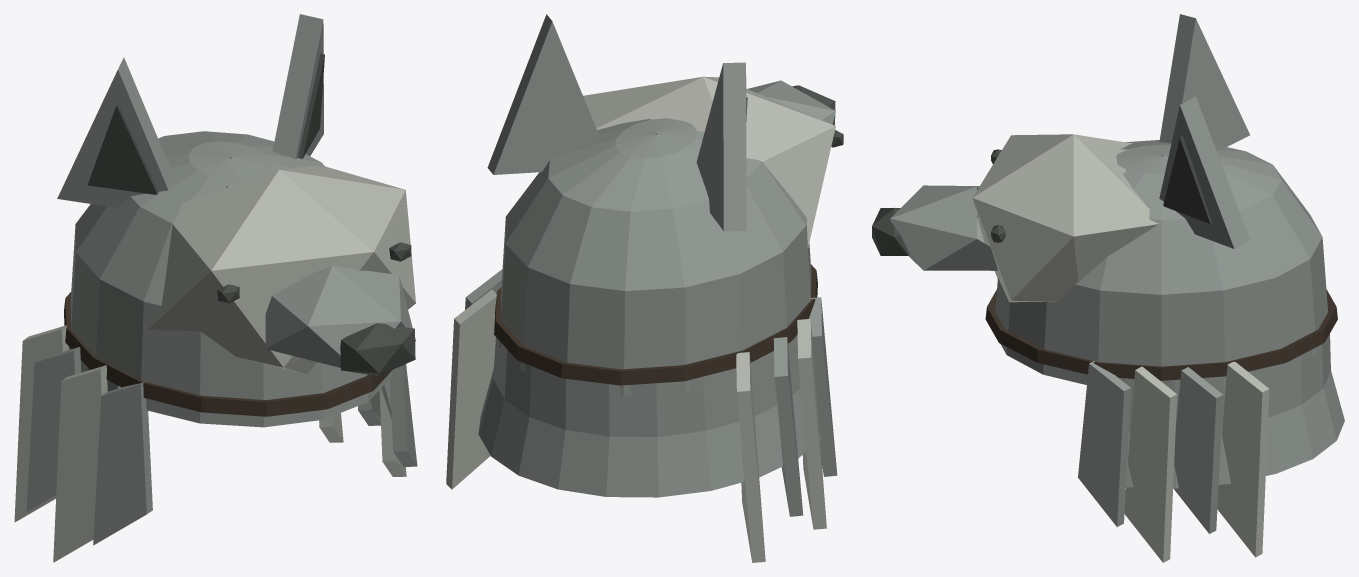
Rendered from Helmet_T1_VELES.fbx.
The picture shows the model from 3 angles, left to right: view 1: azimuth 30°, elevation 25°; view 2: azimuth 150°, elevation 25°; view 3: azimuth 270°, elevation 25°; orthographic projection. The views are drawn at different scales.
Visible parts, largest first — view 1: Helmet_T1_VELES; view 2: Helmet_T1_VELES; view 3: Helmet_T1_VELES.
Part boxes in pixels (x1,y1,x2,y2): Helmet_T1_VELES: [14, 14, 417, 562]; Helmet_T1_VELES: [446, 14, 843, 562]; Helmet_T1_VELES: [872, 14, 1344, 562].
Bounding box in the file's own units: 26.66 × 33.78 × 33.82.
